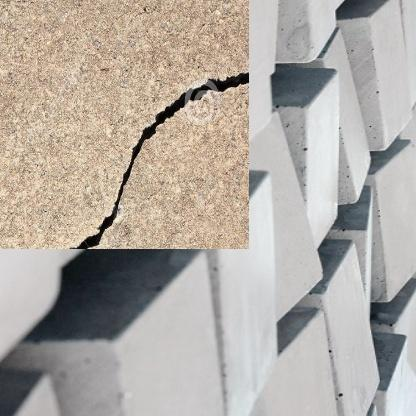Cracks: (62, 64, 230, 230)
